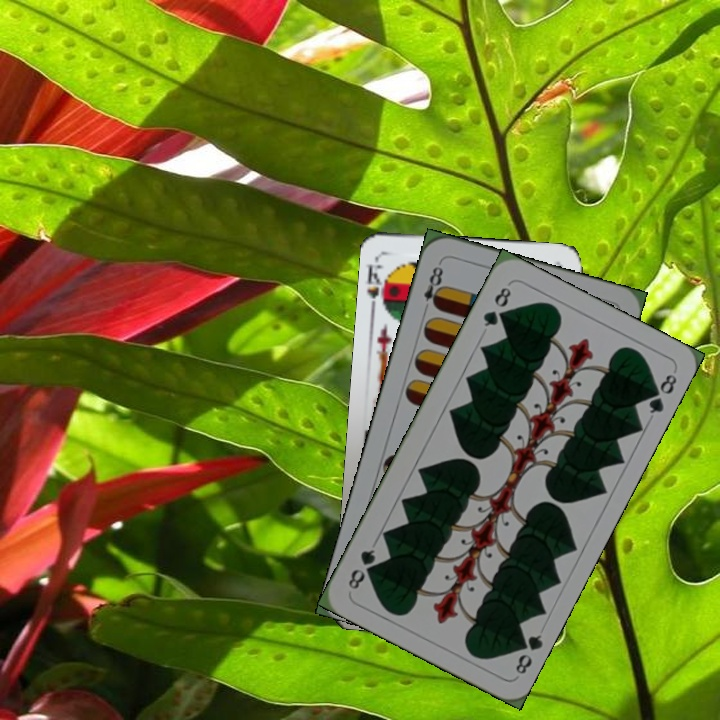E8: (419, 258, 446, 316)
G8: (479, 283, 514, 330), (510, 630, 545, 677)
SK: (364, 260, 393, 315)
